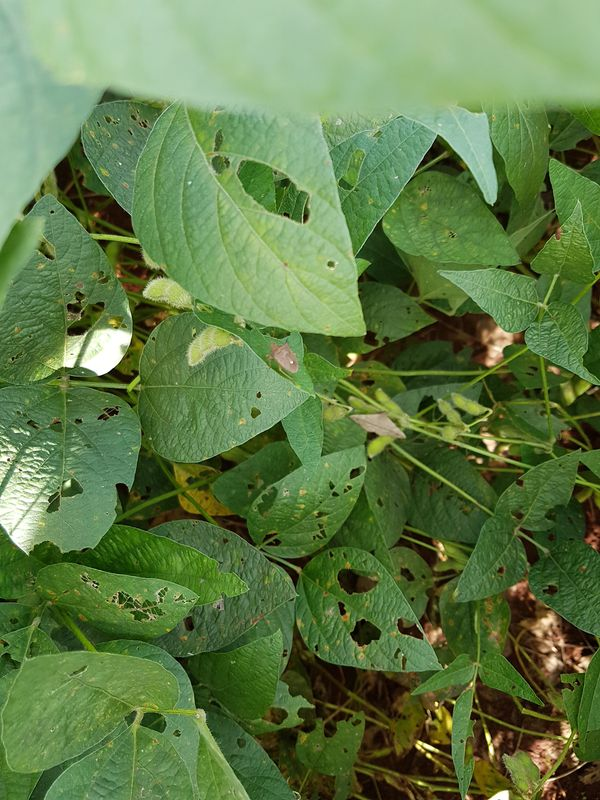Euschistus_heros_adulto: (259, 335, 308, 384)
